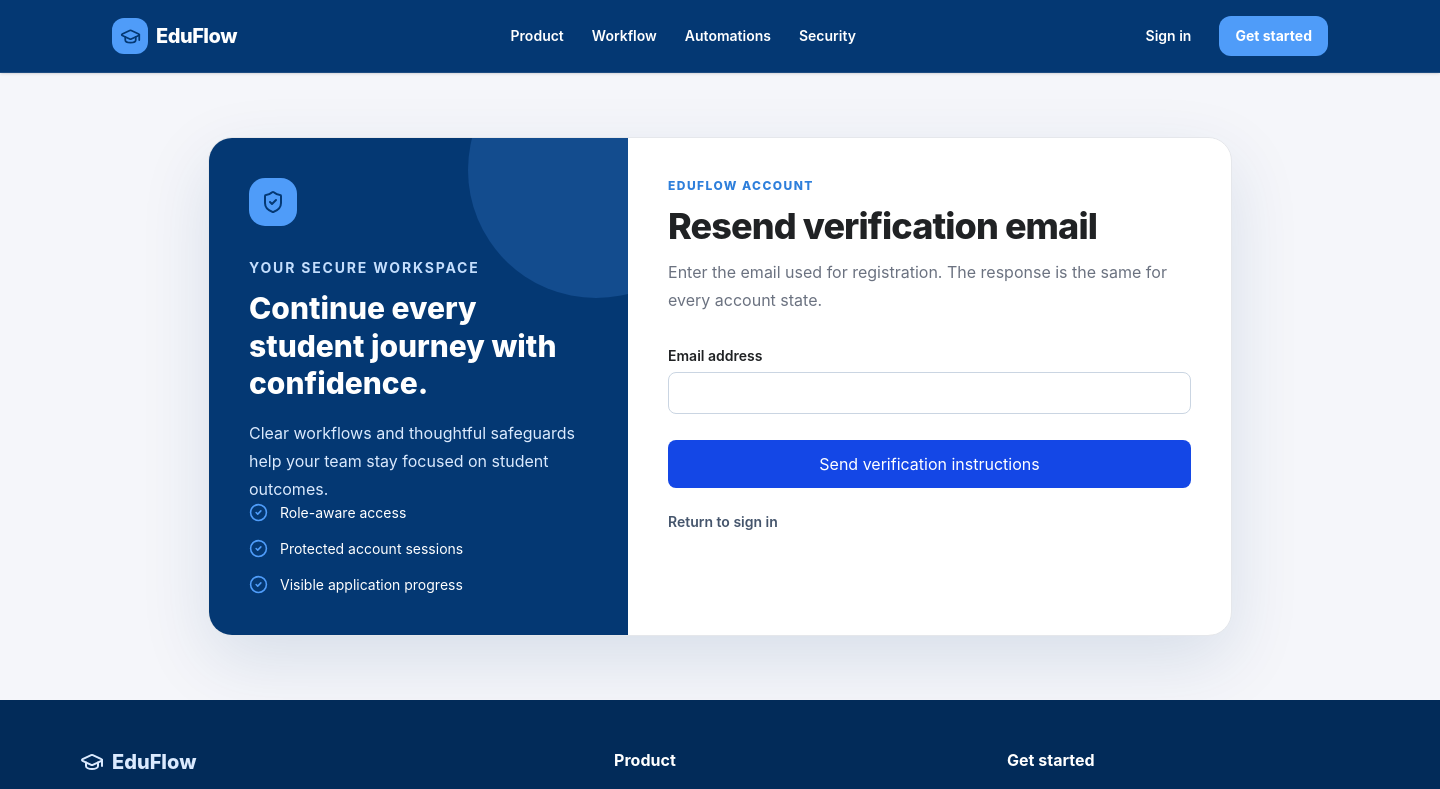
Scenario: verification and recovery email interfaces › submits a resend request and displays the generic success response
This screenshot has width=1440, height=789.
Type "student@example.test" into the field labelled "Email address" at (930, 393), box [668, 372, 1191, 414]
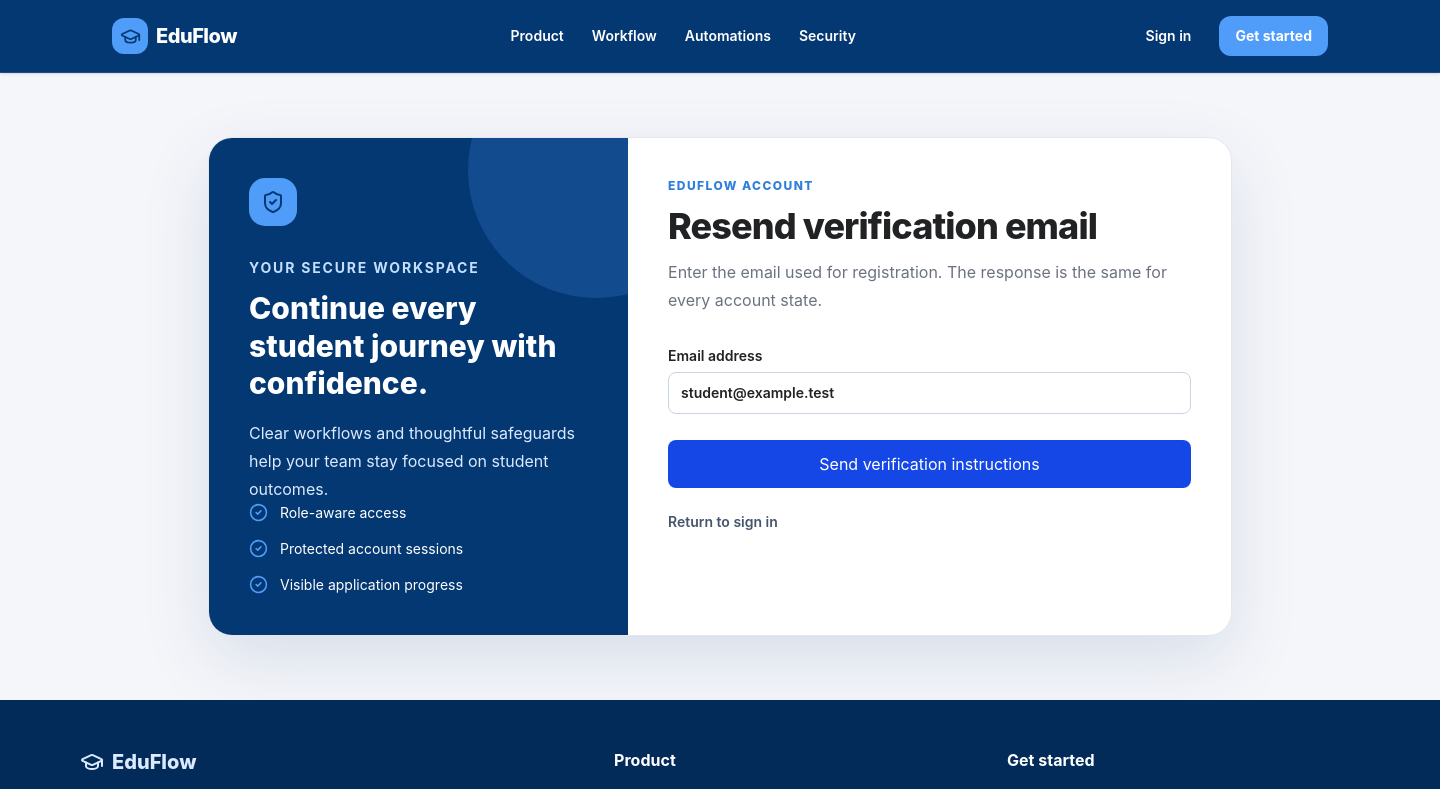
Click the button "Send verification instructions" at (930, 464), box [668, 440, 1191, 488]
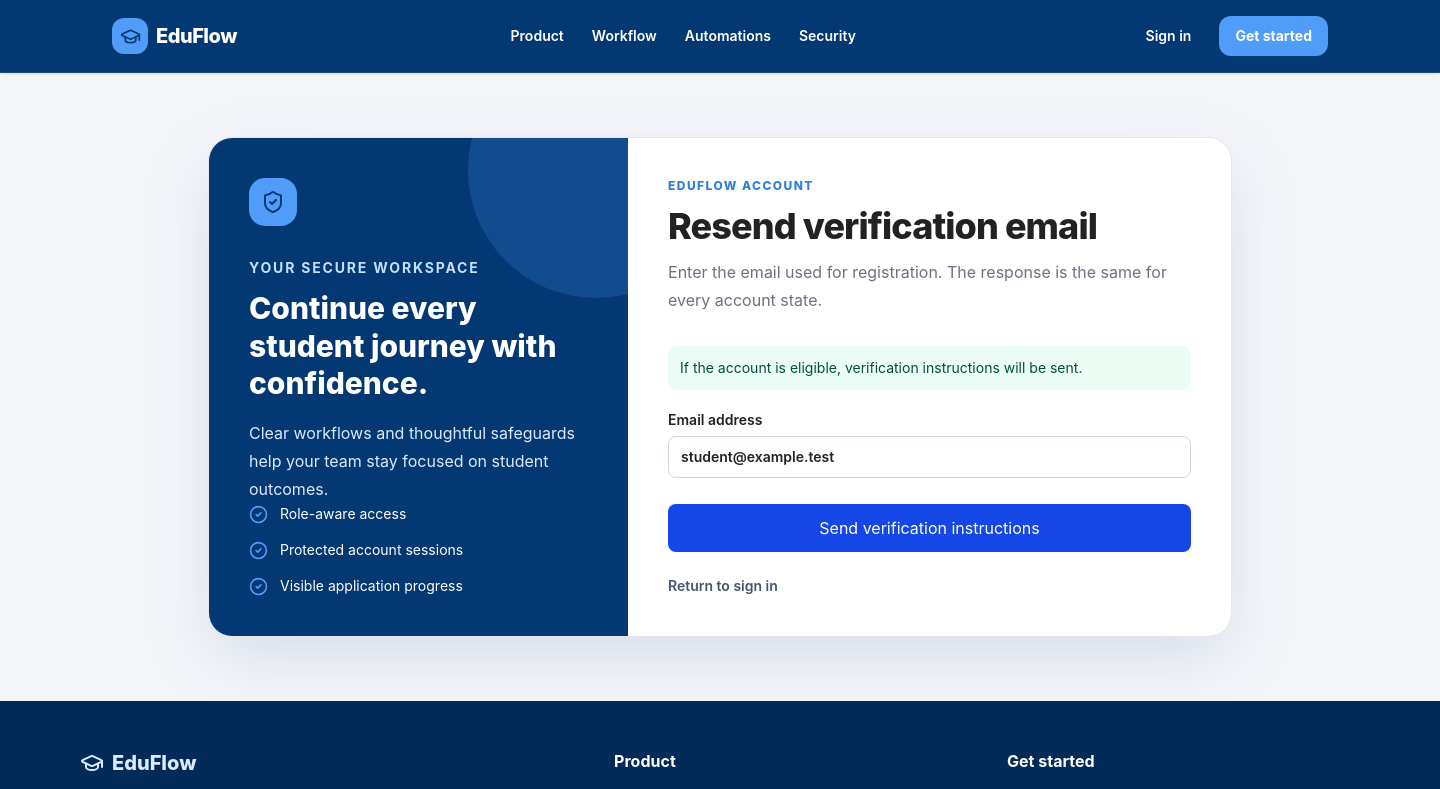
Now the message shows "If the account is eligible", box [680, 359, 1082, 376]
